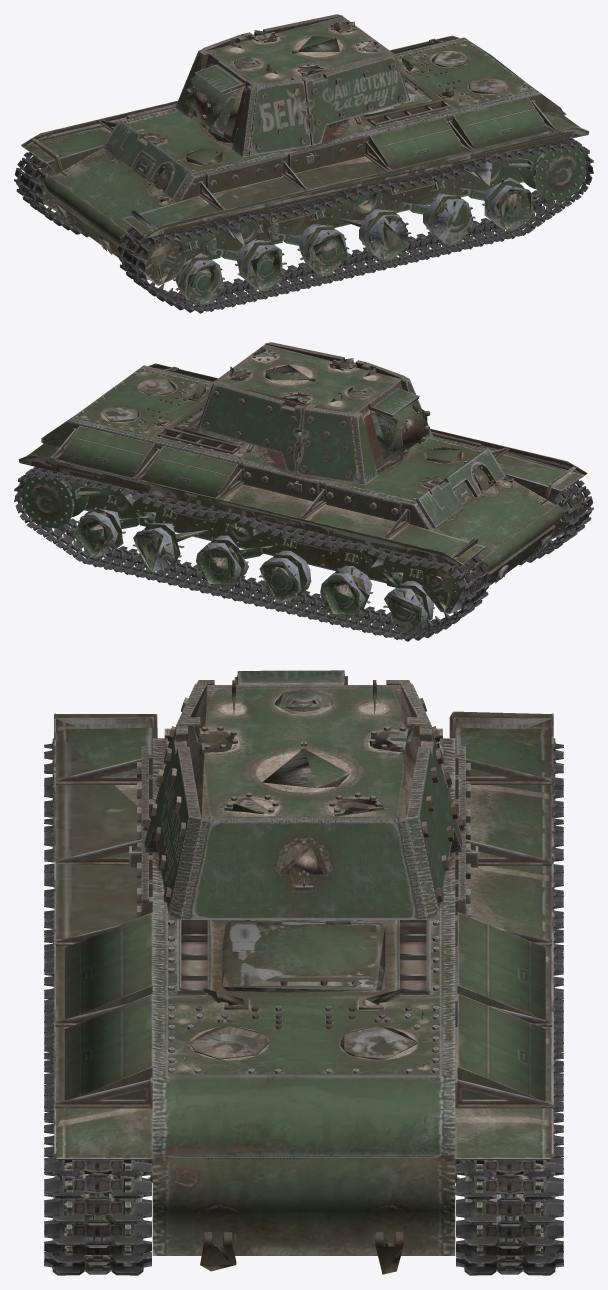
Rendered from tank.glb.
3 views of the same model, one above another, from view 1: azimuth 30°, elevation 25°; view 2: azimuth 150°, elevation 25°; view 3: azimuth 270°, elevation 25° (orthographic). The views are drawn at different scales.
Parts seen in each view (by area): view 1: Body_Low.002_Body.002_0, Defence_head_Low.002_Head.002_0, KatokSA_Low.002__Xodovaya.002_0, track_Low.006_Track.002_0; view 2: Body_Low.002_Body.002_0, Defence_head_Low.002_Head.002_0, KatokSA_Low.002__Xodovaya.002_0, track_Low.006_Track.002_0; view 3: Body_Low.002_Body.002_0, Defence_head_Low.002_Head.002_0, track_Low.006_Track.002_0, KatokSA_Low.002__Xodovaya.002_0.
Part boxes in pixels (left/top/right/bottom): Body_Low.002_Body.002_0: left=21, top=35, right=589, bottom=263; Defence_head_Low.002_Head.002_0: left=175, top=14, right=409, bottom=157; KatokSA_Low.002__Xodovaya.002_0: left=31, top=147, right=586, bottom=304; track_Low.006_Track.002_0: left=14, top=138, right=593, bottom=313; Body_Low.002_Body.002_0: left=18, top=363, right=587, bottom=585; Defence_head_Low.002_Head.002_0: left=198, top=342, right=432, bottom=485; KatokSA_Low.002__Xodovaya.002_0: left=22, top=475, right=580, bottom=633; track_Low.006_Track.002_0: left=14, top=466, right=593, bottom=641; Body_Low.002_Body.002_0: left=54, top=711, right=553, bottom=1274; Defence_head_Low.002_Head.002_0: left=143, top=670, right=464, bottom=919; track_Low.006_Track.002_0: left=44, top=738, right=563, bottom=1275; KatokSA_Low.002__Xodovaya.002_0: left=64, top=1108, right=543, bottom=1262.
Bounding box in the file's own units: 6.88 × 2.75 × 3.39.
7 materials, 7 textured.
